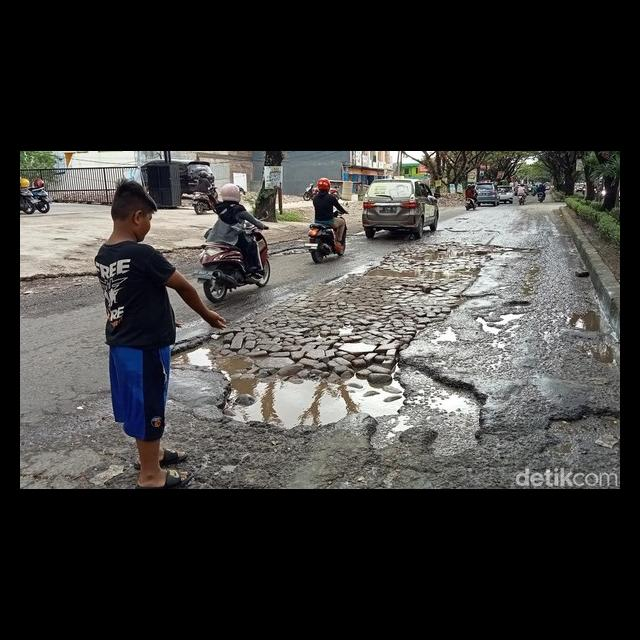lubang_kecil: (220, 352, 484, 465), (239, 284, 436, 371), (541, 390, 620, 463), (471, 294, 537, 352), (561, 304, 613, 368)
